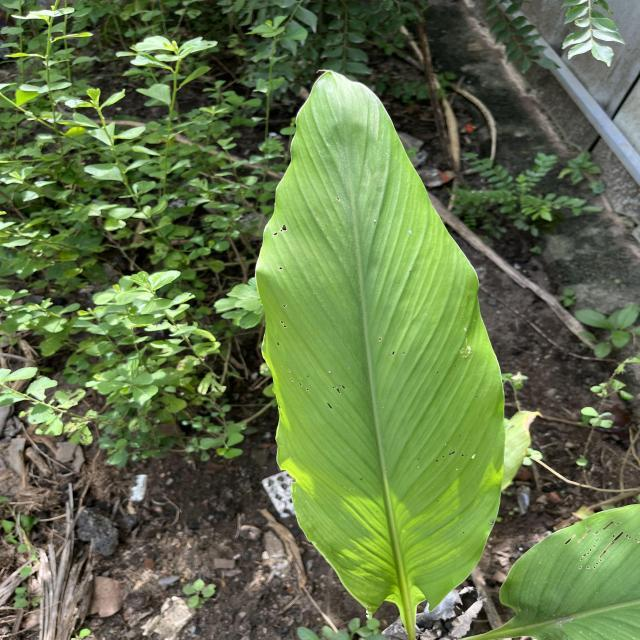Curcuma longa: (252, 64, 510, 626)
